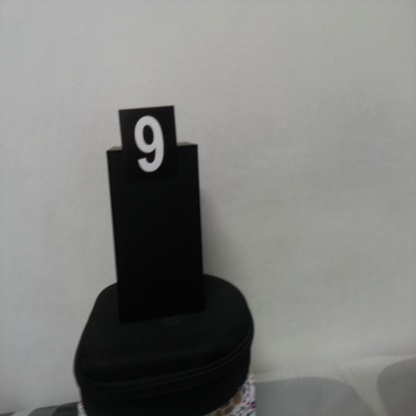id_9: (118, 110, 177, 194)
